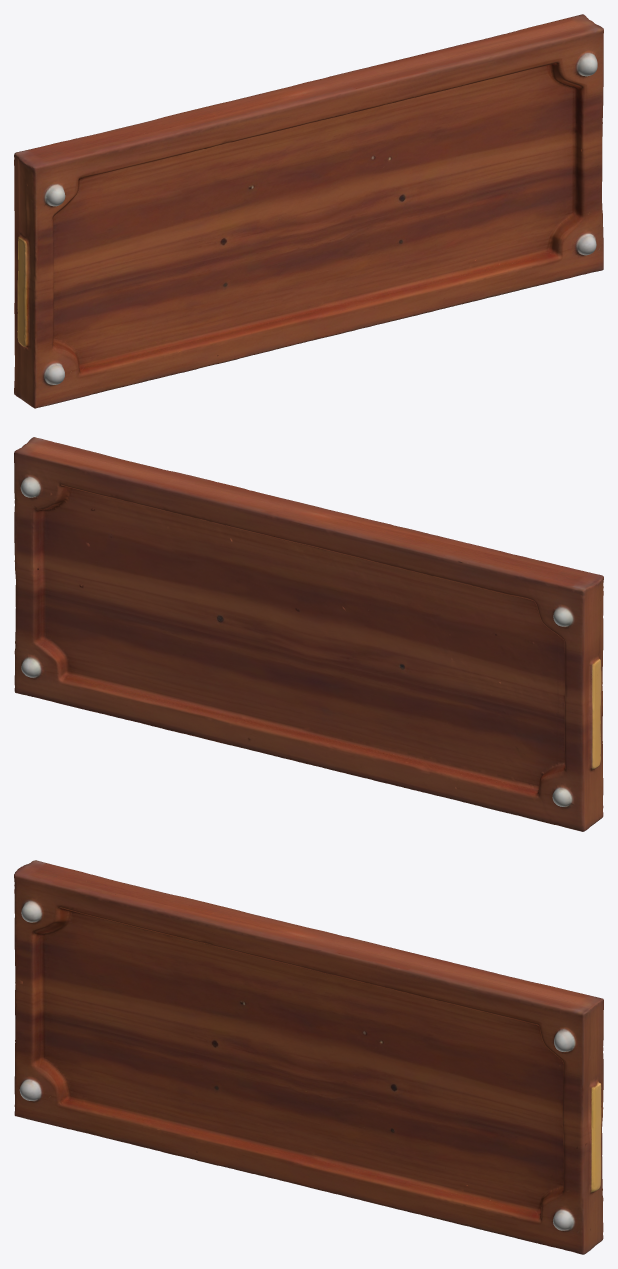
Rendered from Meshy_AI_Rectangular_wooden_se_0509231500_texture.glb.
The picture shows the model from 3 angles, top to bottom: view 1: azimuth 30°, elevation 25°; view 2: azimuth 150°, elevation 25°; view 3: azimuth 330°, elevation 25°; orthographic projection.
Bounding box in the file's own units: 2 × 0.8056 × 0.2047.
Materials: 1 (1 with a texture image).
